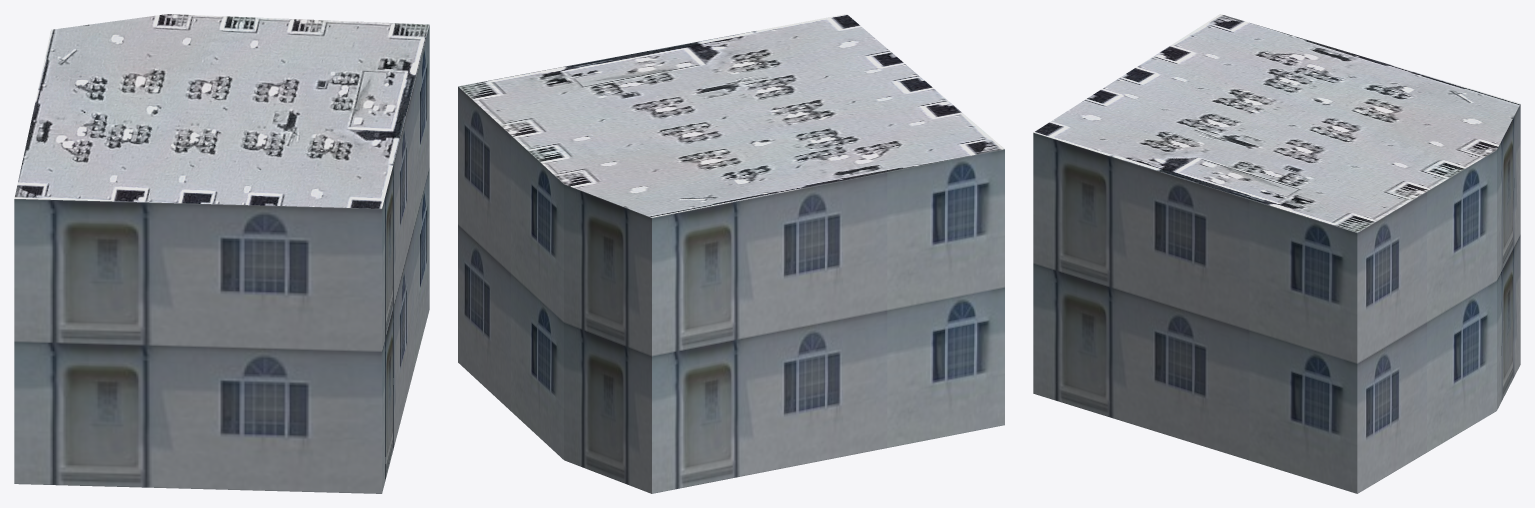
The model's file is ResTex__122.fbx.
3 renders of one model, left to right at view 1: azimuth 30°, elevation 25°; view 2: azimuth 150°, elevation 25°; view 3: azimuth 270°, elevation 25°, orthographic. The views are drawn at different scales.
Visible parts, largest first — view 1: CityEngineMaterial_17_m, CityEngineMaterial_4_m; view 2: CityEngineMaterial_17_m, CityEngineMaterial_4_m; view 3: CityEngineMaterial_17_m, CityEngineMaterial_4_m.
Boxes of the visible parts, x1,y1,x2,y2 form: CityEngineMaterial_17_m: [14, 25, 429, 493]; CityEngineMaterial_4_m: [14, 14, 429, 208]; CityEngineMaterial_17_m: [458, 86, 1004, 493]; CityEngineMaterial_4_m: [458, 14, 1004, 217]; CityEngineMaterial_17_m: [1033, 104, 1520, 493]; CityEngineMaterial_4_m: [1034, 14, 1520, 232].
Bounding box in the file's own units: 10.79 × 6 × 10.15.
Materials: 2 (2 with a texture image).
